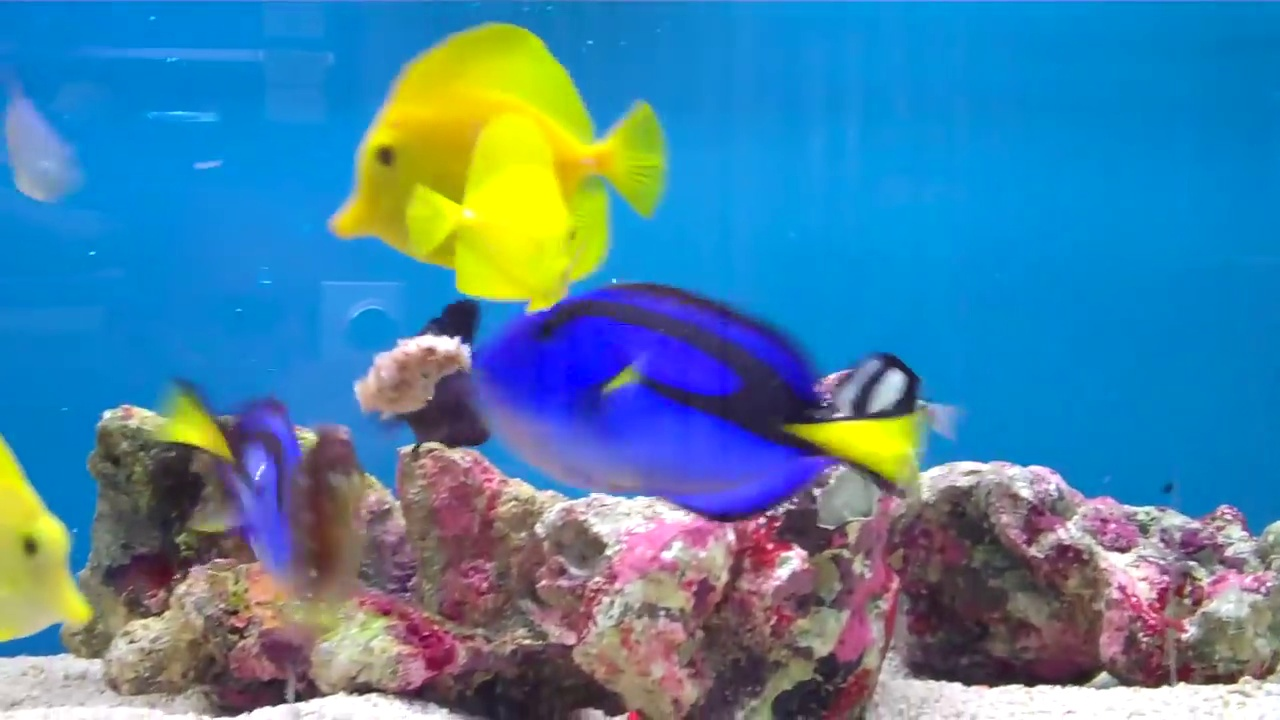blue tang surgeonfish: (468, 262, 923, 538), (149, 371, 324, 578)
saddle butterfly fish: (326, 26, 671, 250), (427, 118, 590, 314)
